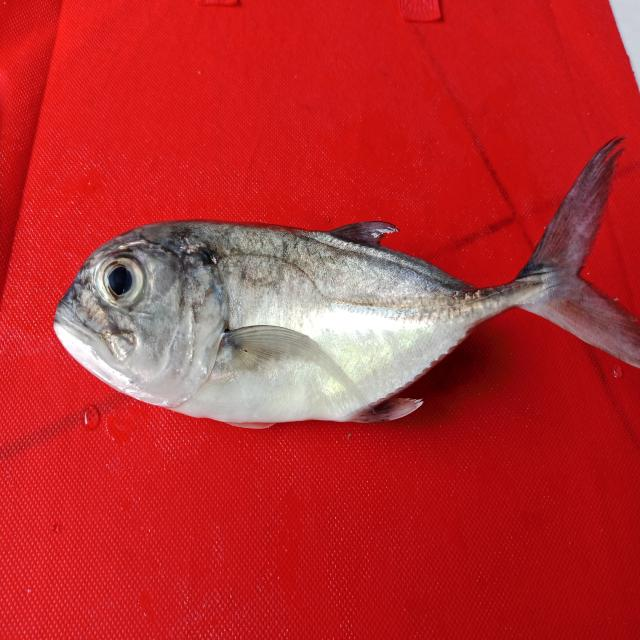ikan: (52, 134, 639, 429)
